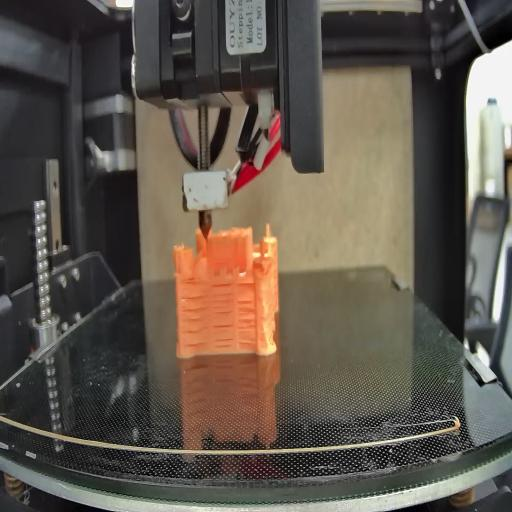cracks: (179, 294, 208, 346), (238, 299, 258, 350), (211, 280, 235, 316), (212, 324, 236, 348), (238, 281, 256, 286)
